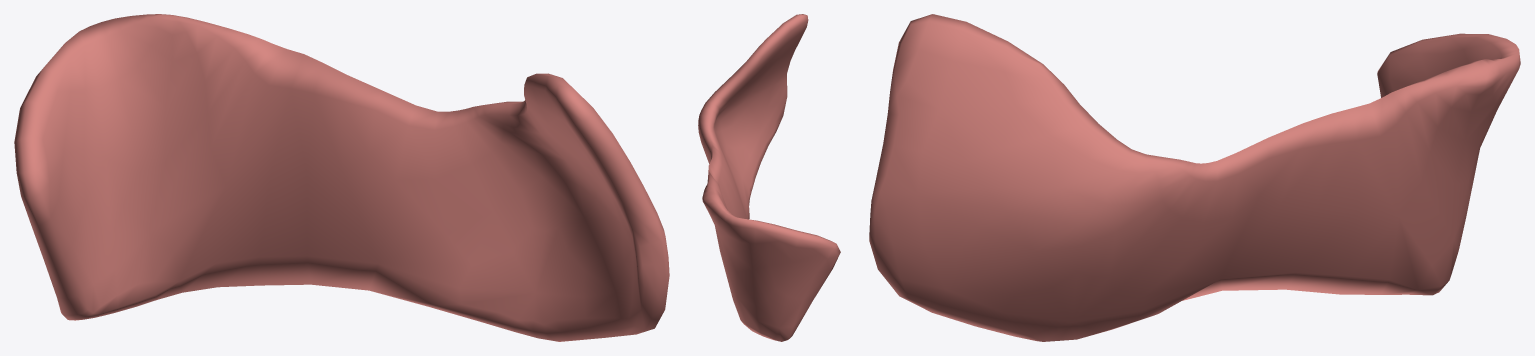
The picture shows the model from 3 angles, left to right: view 1: azimuth 30°, elevation 25°; view 2: azimuth 150°, elevation 25°; view 3: azimuth 270°, elevation 25°; orthographic projection. The views are drawn at different scales.
Parts seen in each view (by area): view 1: ZA_d5f4e1ac5d143e20; view 2: ZA_d5f4e1ac5d143e20; view 3: ZA_d5f4e1ac5d143e20.
Part boxes in pixels (bbox=[...]): ZA_d5f4e1ac5d143e20: bbox=[14, 14, 669, 341]; ZA_d5f4e1ac5d143e20: bbox=[698, 14, 840, 341]; ZA_d5f4e1ac5d143e20: bbox=[869, 14, 1520, 341].
Bounding box in the file's own units: 0.00715 × 0.00617 × 0.01.
